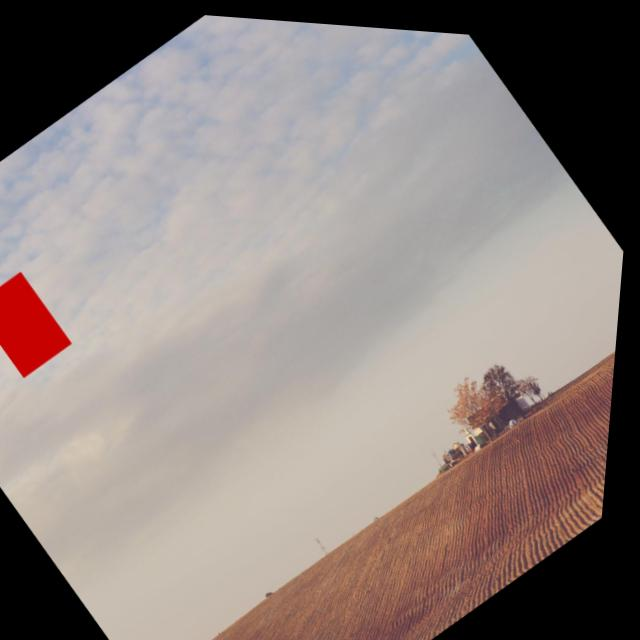RedSquare: (0, 259, 94, 391)
